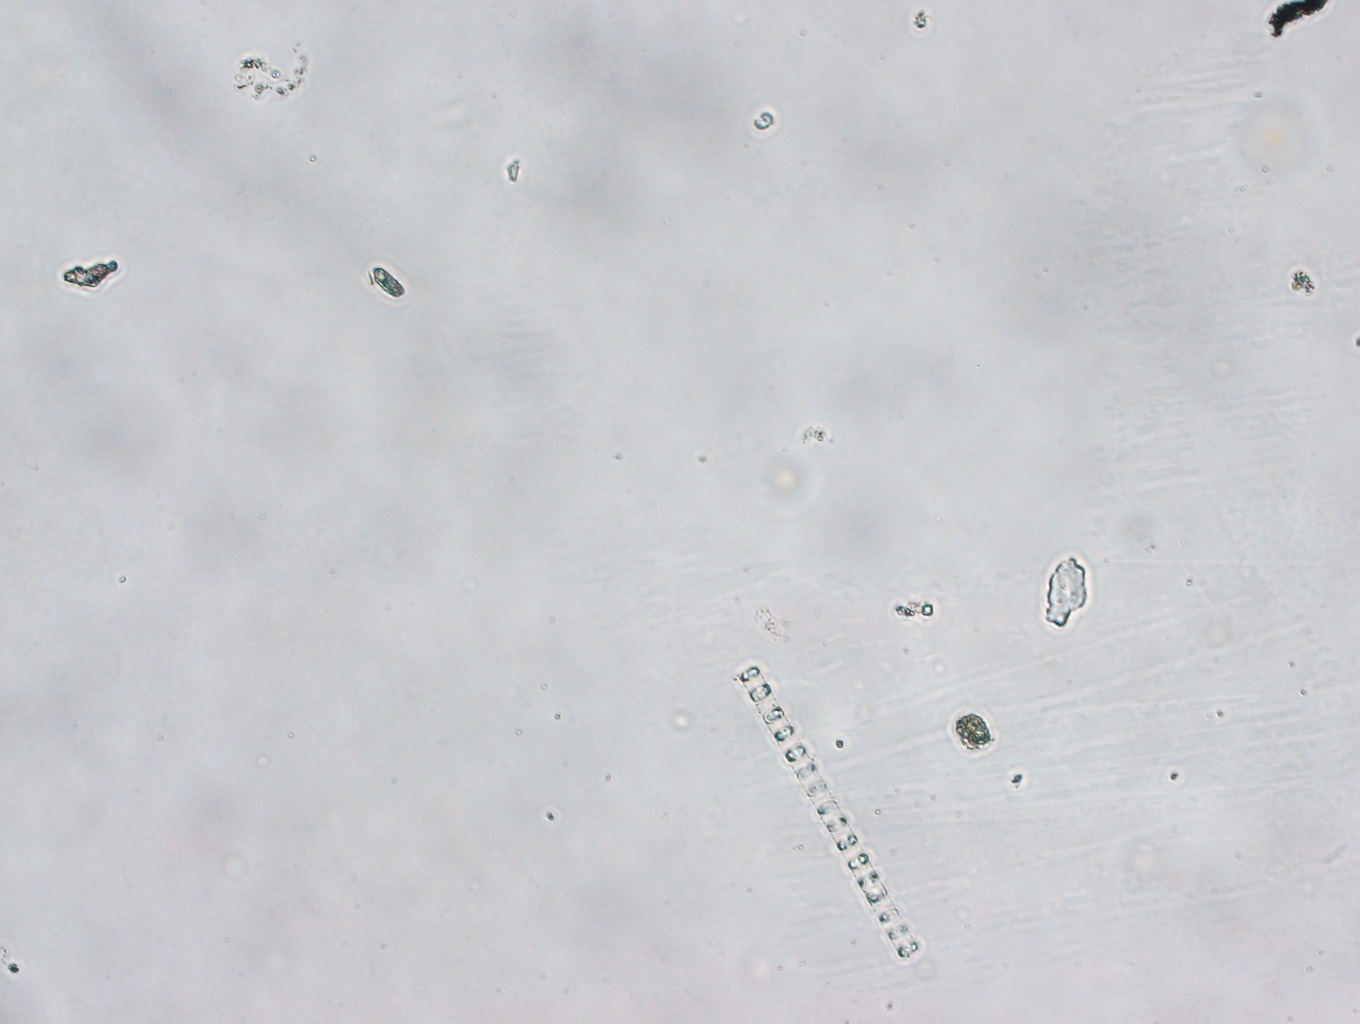skeletonema: (738, 667, 918, 959)
